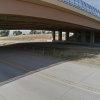Bridge: (2, 0, 99, 49)
